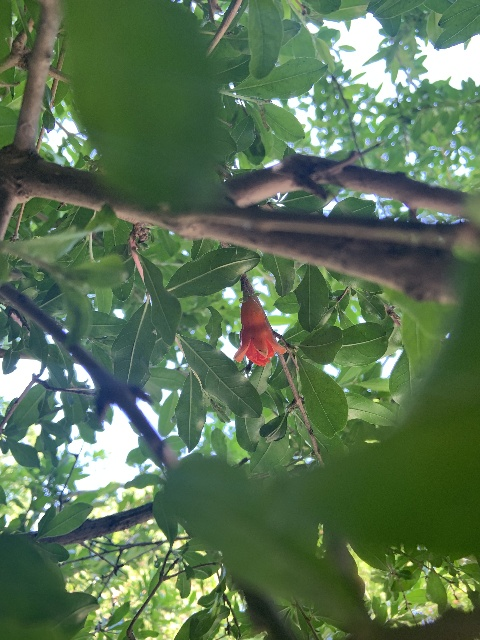flower: (234, 296, 286, 366)
